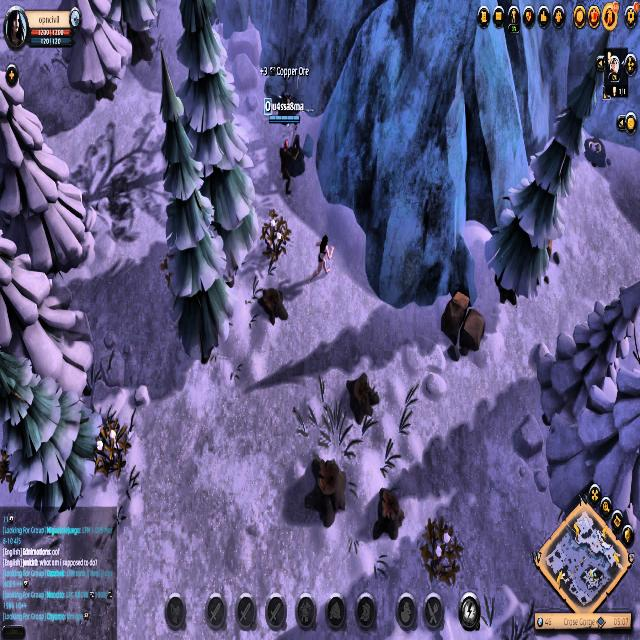cotton: (93, 420, 135, 487), (421, 526, 466, 582), (261, 206, 291, 266)
limestone: (438, 285, 488, 369)
